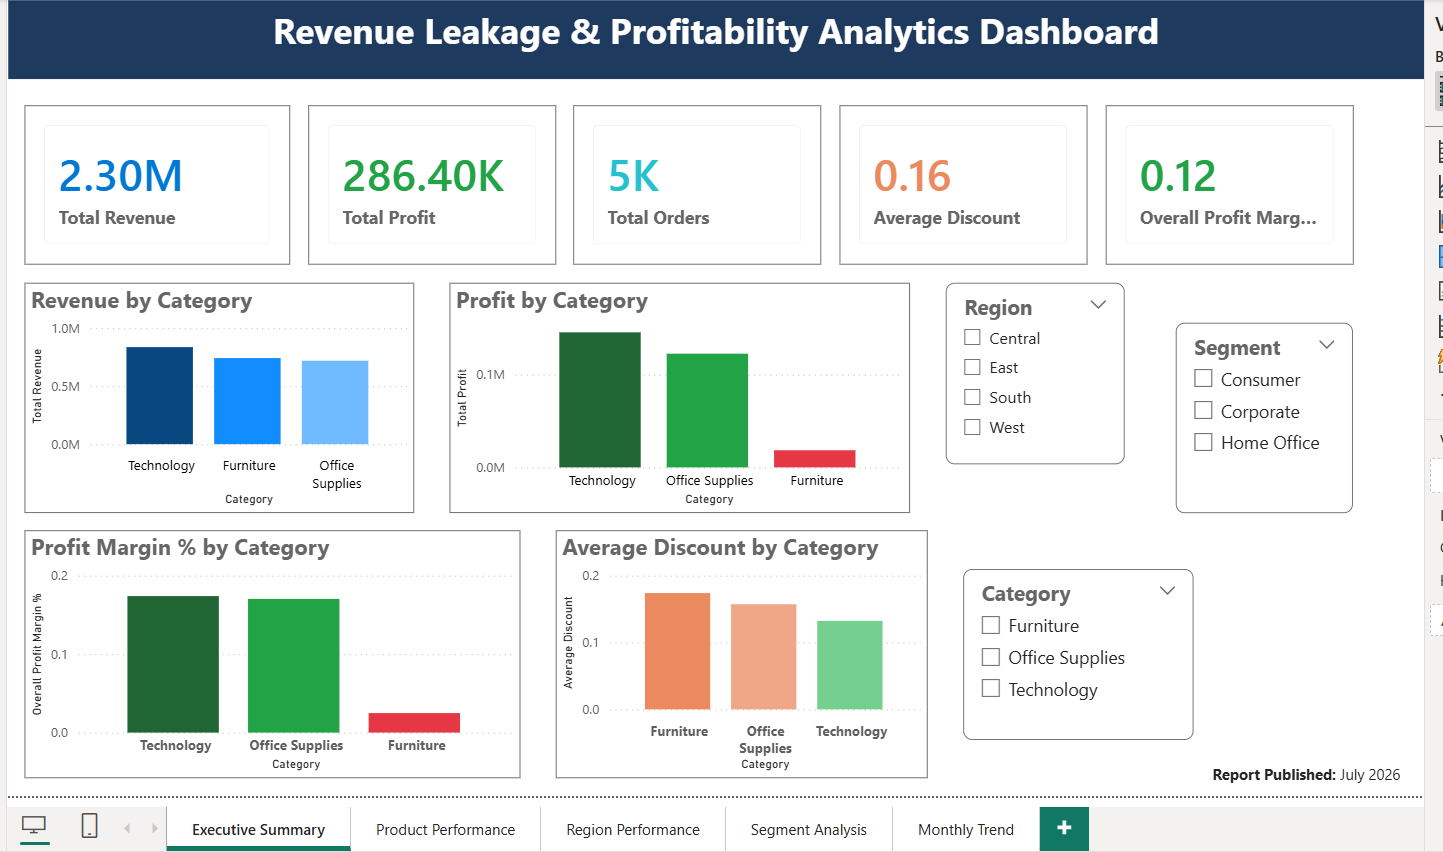

What the dashboard file says about the page in this screenshot:
{"tool":"powerbi","page":{"name":"Executive Summary","canvas":[1280,720],"ordinal":0},"visuals":[{"type":"cardVisual","fields":{"Data":["Sheet1.Total Revenue"]},"box":[16,96,240,144],"z":0},{"type":"clusteredColumnChart","title":"Revenue by Category","fields":{"Category":["Sheet1.Category"],"Y":["Sheet1.Total Revenue"]},"box":[16,256,352,208],"z":1000},{"type":"clusteredColumnChart","title":"Profit by Category","fields":{"Category":["Sheet1.Category"],"Y":["Sheet1.Total Profit"]},"box":[400,256,416,208],"z":2000},{"type":"clusteredColumnChart","fields":{"Category":["Sheet1.Category"],"Y":["Sheet1.Average Discount"]},"box":[496,480,336,224],"z":3000},{"type":"clusteredColumnChart","title":"Profit Margin % by Category","fields":{"Category":["Sheet1.Category"],"Y":["Sheet1.Overall Profit Margin %"]},"box":[16,480,448,224],"z":4000},{"type":"cardVisual","fields":{"Data":["Sheet1.Overall Profit Margin %"]},"box":[992,96,224,144],"z":5000},{"type":"cardVisual","fields":{"Data":["Sheet1.Average Discount"]},"box":[752,96,224,144],"z":6000},{"type":"cardVisual","fields":{"Data":["Sheet1.Total Orders"]},"box":[512,96,224,144],"z":7000},{"type":"cardVisual","fields":{"Data":["Sheet1.Total Profit"]},"box":[272,96,224,144],"z":8000},{"type":"textbox","box":[1.4,1,1278.9,71.4],"z":9000},{"type":"slicer","fields":{"Values":["Sheet1.Region"]},"box":[848,256,161.3,164],"z":10000},{"type":"slicer","fields":{"Values":["Sheet1.Category"]},"box":[864,514.7,208,154.7],"z":11000},{"type":"slicer","fields":{"Values":["Sheet1.Segment"]},"box":[1056,292,160,172],"z":12000},{"type":"textbox","box":[1083.4,686,196.9,34.2],"z":13000}]}

Visuals, with their boxes on the page's 1280x720 design canvas (x1, y1, x2, y2). These are canvas units, not pixel positions in the 1443x852 screenshot, which may show the page scaled, cropped or inside an application window:
cardVisual - Sheet1.Total Revenue: Rect(16, 96, 256, 240)
"Revenue by Category" clusteredColumnChart: Rect(16, 256, 368, 464)
"Profit by Category" clusteredColumnChart: Rect(400, 256, 816, 464)
clusteredColumnChart - Sheet1.Category x Sheet1.Average Discount: Rect(496, 480, 832, 704)
"Profit Margin % by Category" clusteredColumnChart: Rect(16, 480, 464, 704)
cardVisual - Sheet1.Overall Profit Margin %: Rect(992, 96, 1216, 240)
cardVisual - Sheet1.Average Discount: Rect(752, 96, 976, 240)
cardVisual - Sheet1.Total Orders: Rect(512, 96, 736, 240)
cardVisual - Sheet1.Total Profit: Rect(272, 96, 496, 240)
textbox: Rect(1, 1, 1280, 72)
slicer - Sheet1.Region: Rect(848, 256, 1009, 420)
slicer - Sheet1.Category: Rect(864, 515, 1072, 669)
slicer - Sheet1.Segment: Rect(1056, 292, 1216, 464)
textbox: Rect(1083, 686, 1280, 720)
